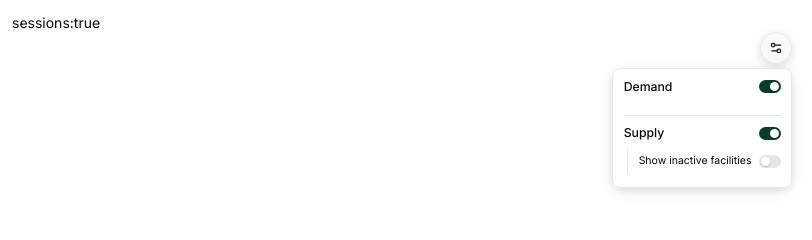
Test case: MapLayersPanel › tells the map to hide app sessions when the switch is turned off
Expected: the text "sessions:true" is shown, [12,14,100,31]
Click the switch named "App sessions" at (770, 86), box [758,80,780,93]
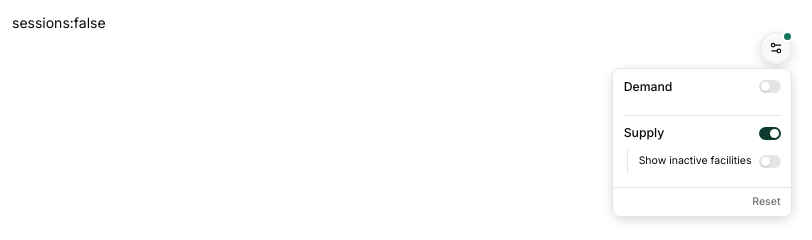
Result: the text "sessions:false" is shown at [12,14,106,31]
Click the switch named "App sessions" at (770, 86), box [758,80,780,93]
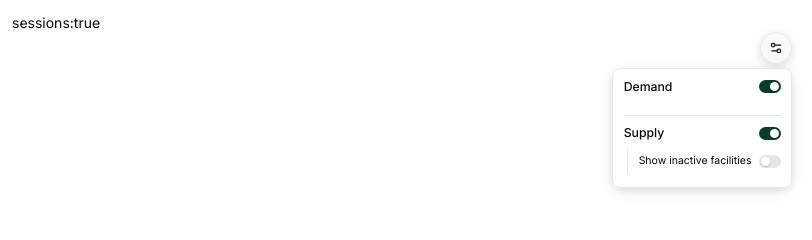
Result: the text "sessions:true" is shown at [12,14,100,31]
